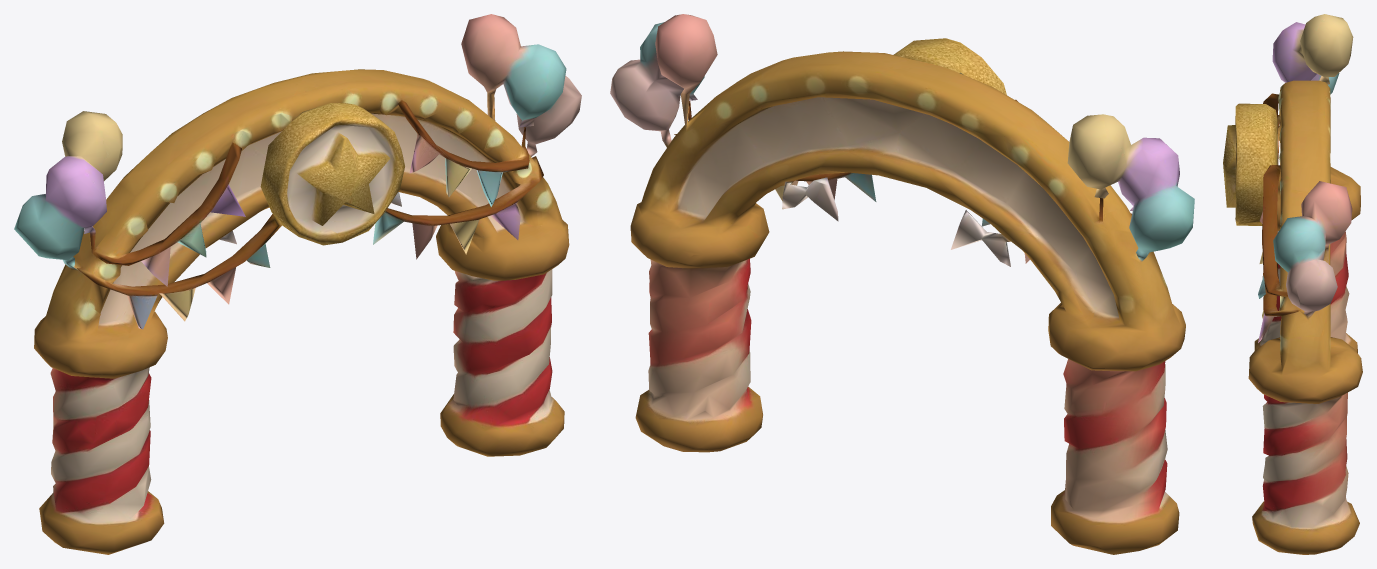
The model's file is portail-fete.glb.
3 views of the same model, side by side, from view 1: azimuth 30°, elevation 25°; view 2: azimuth 150°, elevation 25°; view 3: azimuth 270°, elevation 25° (orthographic). The views are drawn at different scales.
Parts seen in each view (by area): view 1: tripo_node_3f62f4c5-56da-4d9d-bcf2-d7dcef897a3e; view 2: tripo_node_3f62f4c5-56da-4d9d-bcf2-d7dcef897a3e; view 3: tripo_node_3f62f4c5-56da-4d9d-bcf2-d7dcef897a3e.
Part boxes in pixels (x1,y1,x2,y2): tripo_node_3f62f4c5-56da-4d9d-bcf2-d7dcef897a3e: (14, 14, 581, 554); tripo_node_3f62f4c5-56da-4d9d-bcf2-d7dcef897a3e: (610, 14, 1194, 554); tripo_node_3f62f4c5-56da-4d9d-bcf2-d7dcef897a3e: (1223, 14, 1362, 554).
Size of the model in its own units: 1 by 0.7101 by 0.2524.
Materials: 1 (1 with a texture image).
